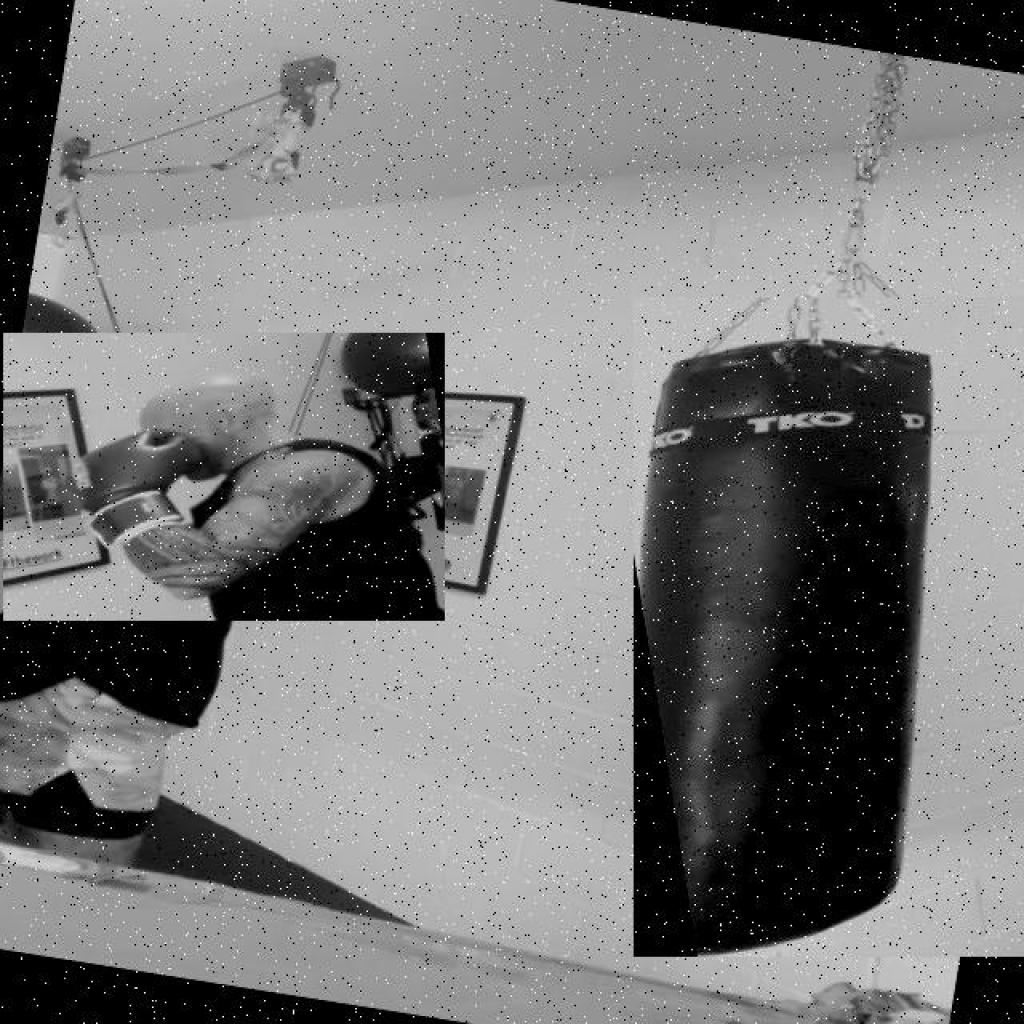bag: (634, 298, 1023, 958)
no punch: (3, 333, 446, 620)
